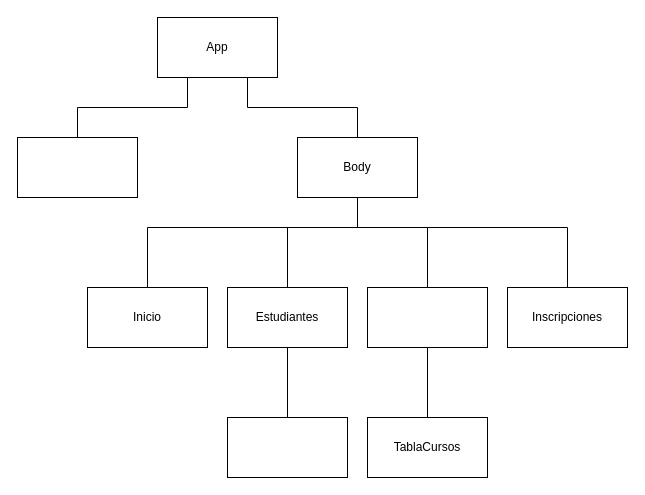
This 645x495 diagram has some shape labels left out. The shapes that lost their labels are listed below. From the top down, each one's box as (x1, y1, x2, y2) in pixels, then its label:
(16, 136, 138, 198): Toolbar
(366, 286, 488, 348): Cursos
(226, 416, 348, 478): TablaEstudiantes
